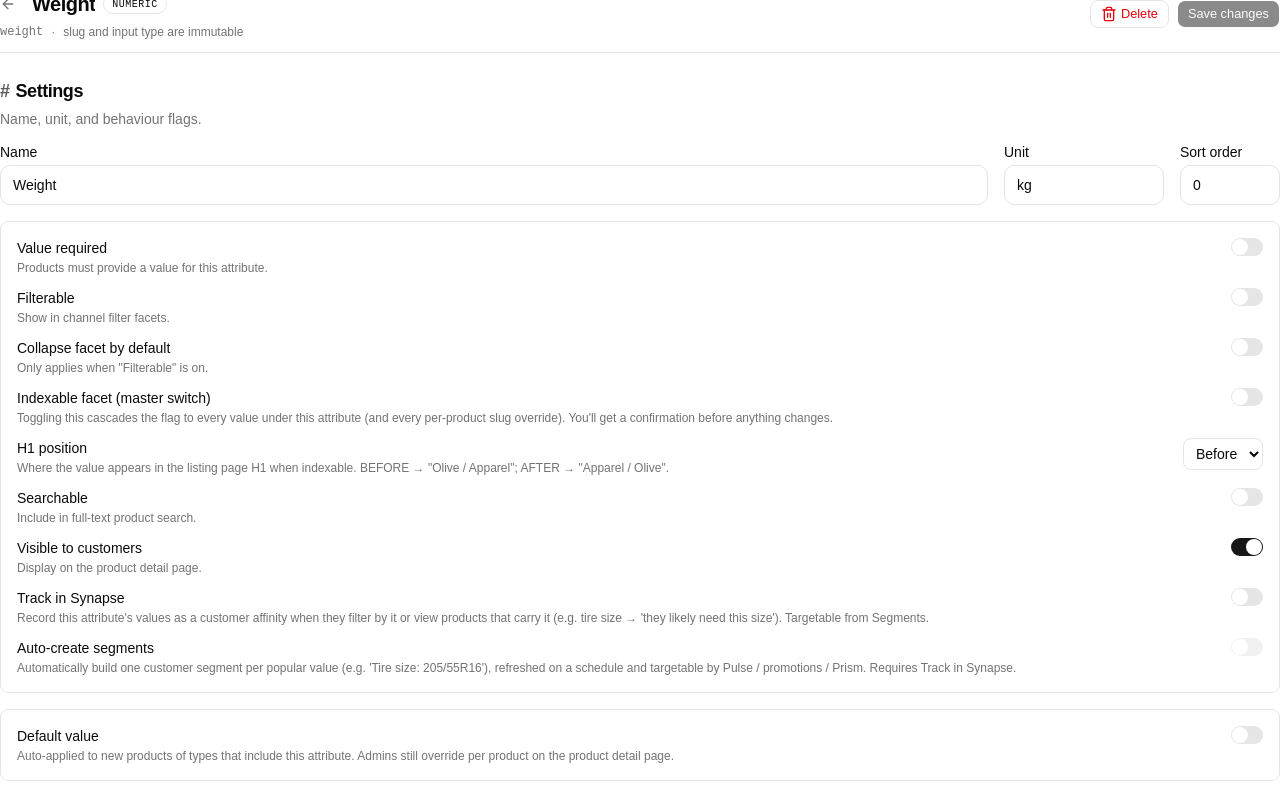
Scenario: AttributeDetail confirms › keeps the delete open and shows a refused delete
expect the button "Save changes" is shown: met, box [1177,0,1279,28]
Click the button "Delete" at (1129, 14), box [1090,0,1169,28]
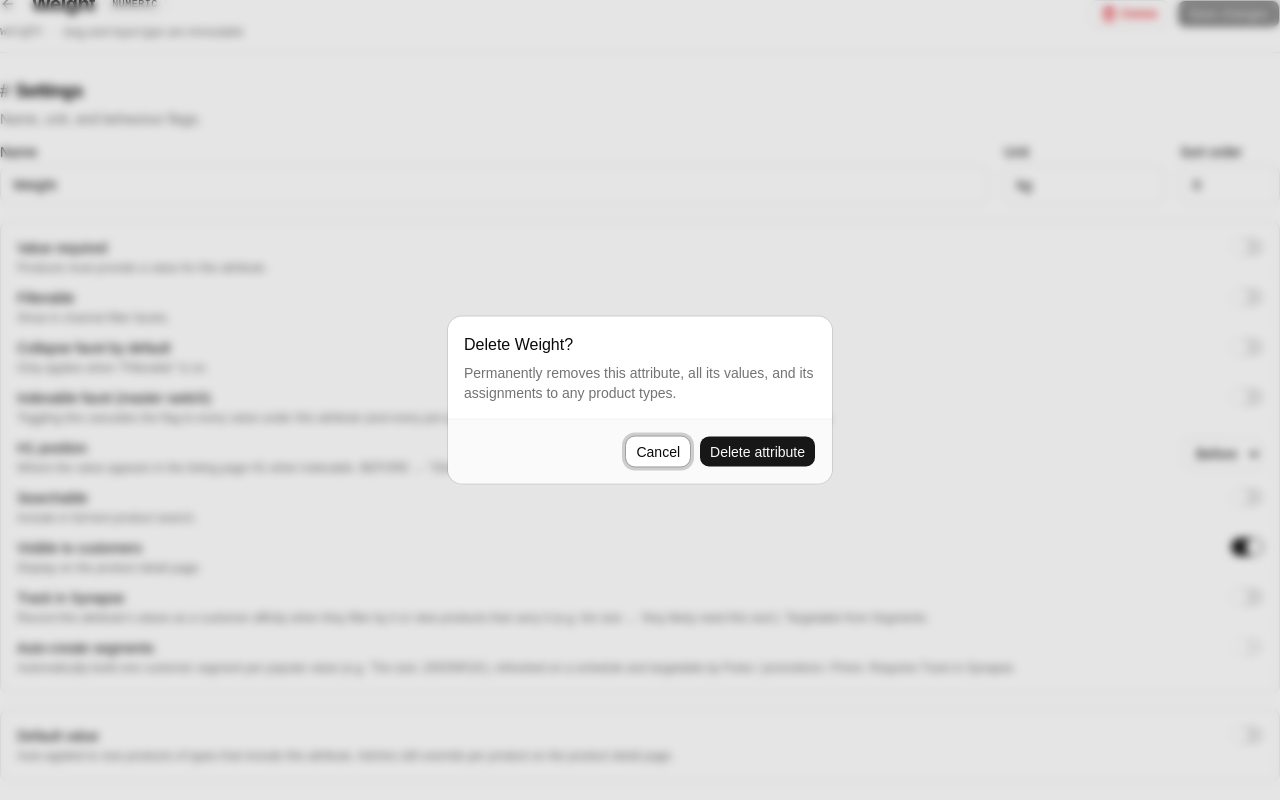
Click the button "Delete attribute" at (758, 452), box [699,436,816,468]
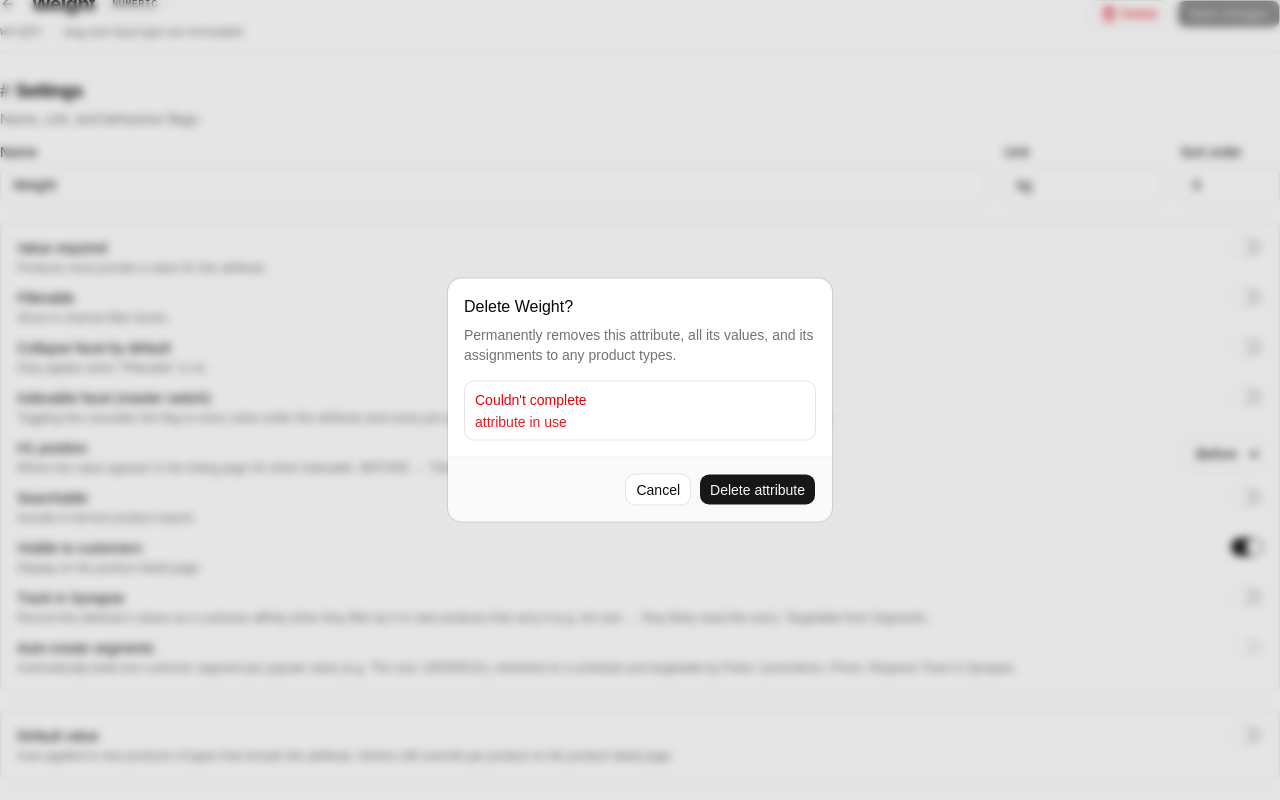
expect the text "attribute in use" is shown: met, box [475,414,567,430]
